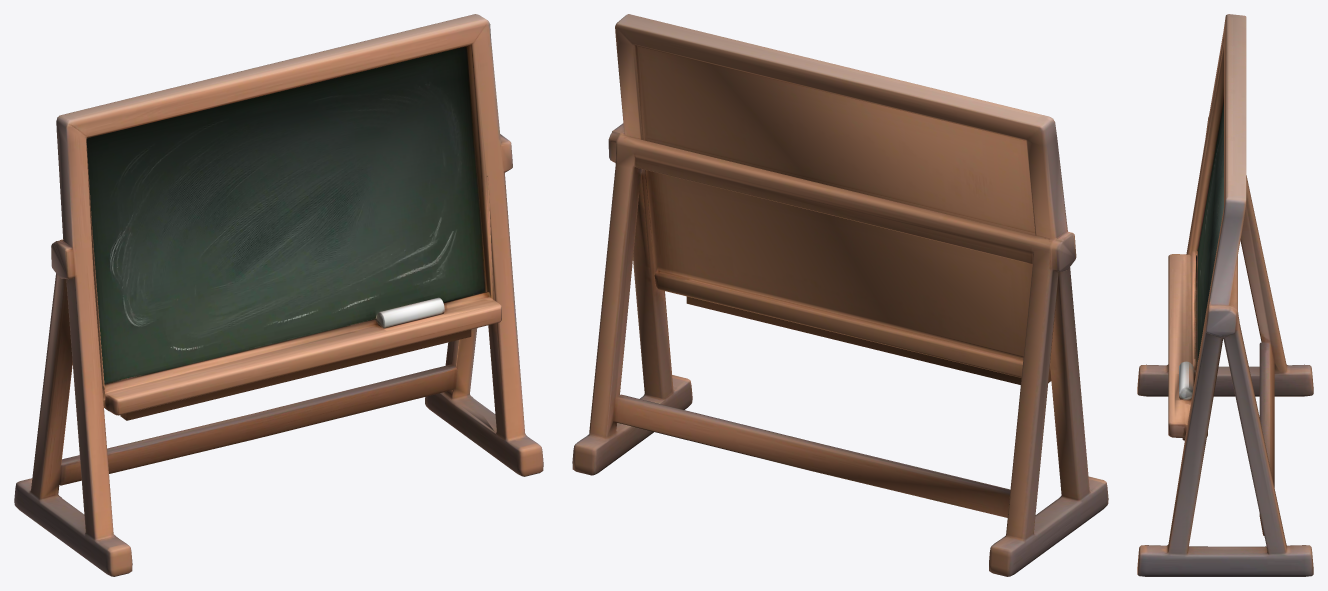
Rendered from Electronics__blackboard_realistic_style_5cec1287_v4.cluster.glb.
3 views of the same model, side by side, from view 1: azimuth 30°, elevation 25°; view 2: azimuth 150°, elevation 25°; view 3: azimuth 270°, elevation 25° (orthographic). The views are drawn at different scales.
Visible parts, largest first — view 1: texture_pbr_20250901; view 2: texture_pbr_20250901; view 3: texture_pbr_20250901.
Boxes of the visible parts, bbox=[...] form: texture_pbr_20250901: bbox=[14, 14, 543, 576]; texture_pbr_20250901: bbox=[572, 14, 1108, 576]; texture_pbr_20250901: bbox=[1137, 14, 1313, 576].
Size of the model in its own units: 1.9 by 1.71 by 0.7226.
1 material, 1 textured.
